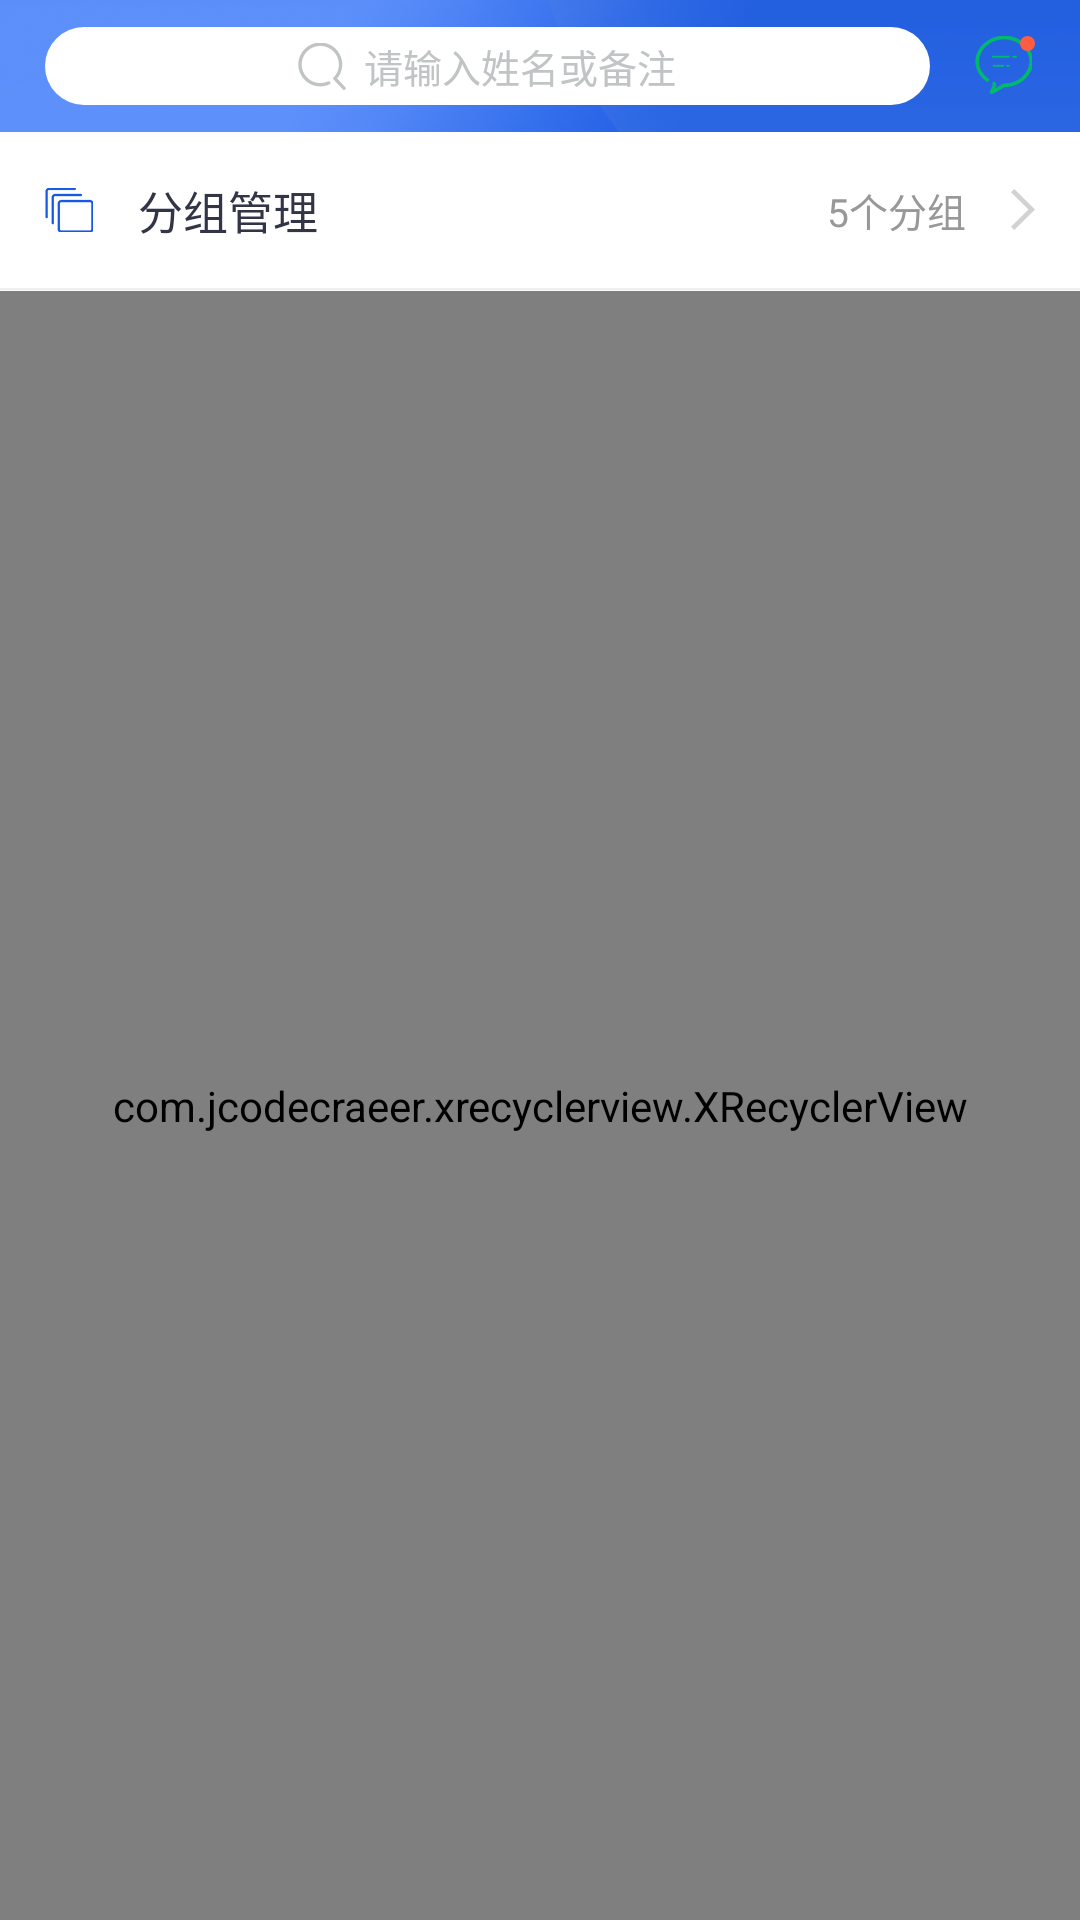

Where to tap for icons on this 1080×1920 app screen, as point (x, y):
group manager: point (69, 210)
message: point (1003, 65)
search: point (322, 66)
